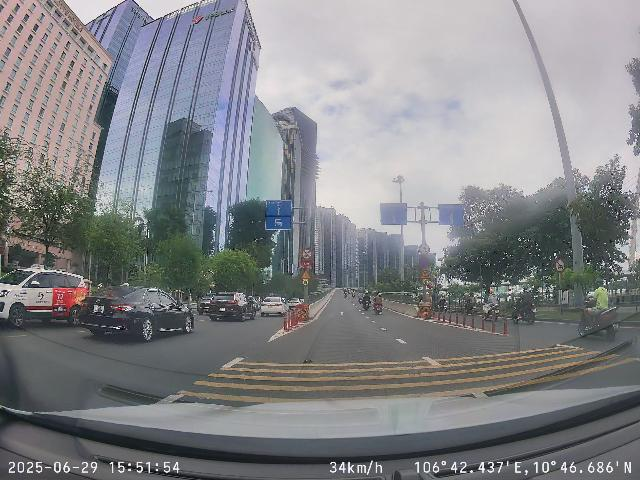103a-cam-oto: (554, 258, 566, 273)
